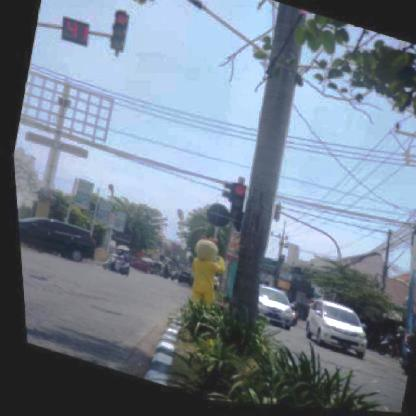Traffic Light -Red-: (104, 13, 134, 58), (221, 184, 245, 226)
